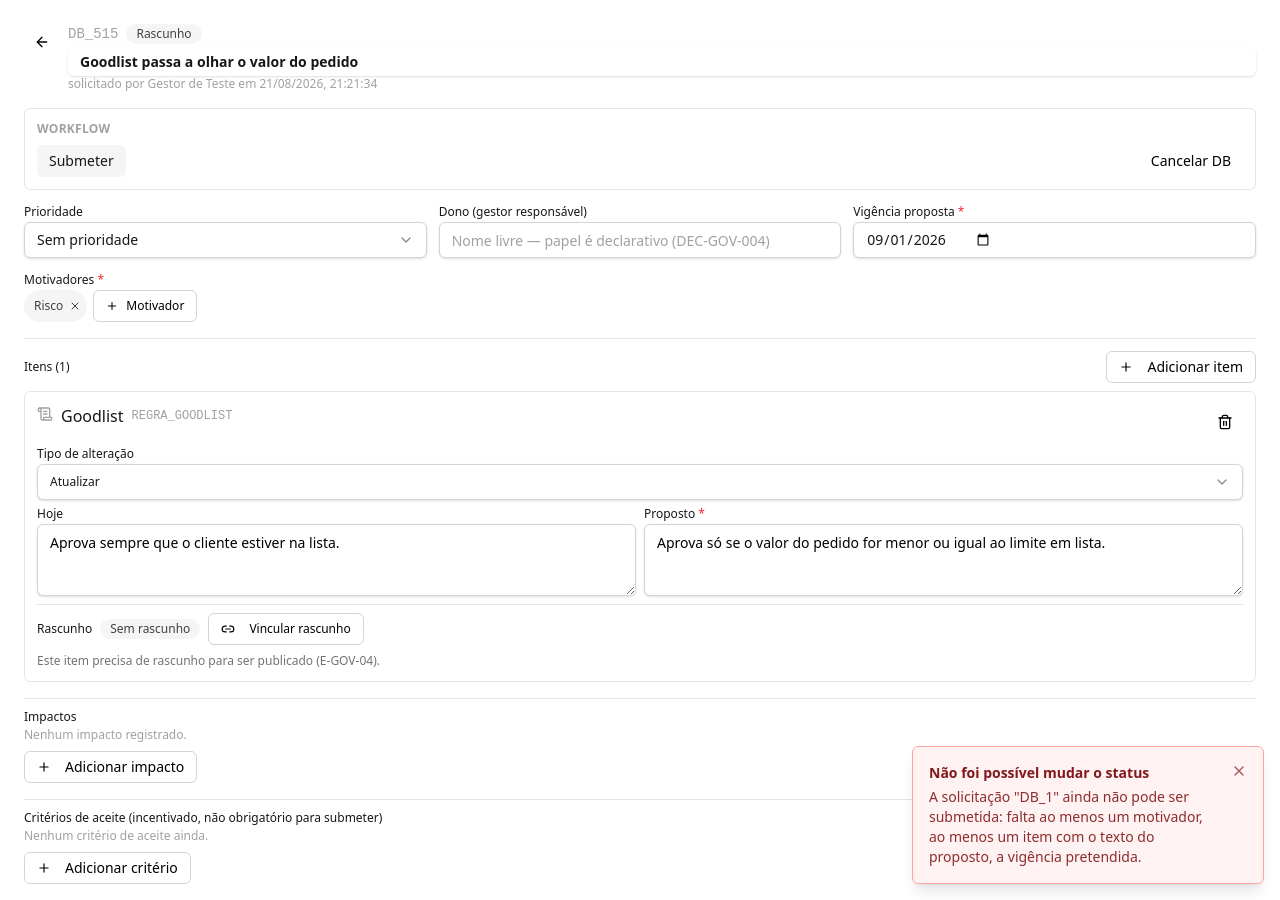
ChangeRequestDetail — submissão (RN-GOV-03) › com motivador, item e vigência, submeter avança para SUBMITTED e o aviso some
Click the button "Submeter". click: (81, 161)
box: [37,145,126,177]
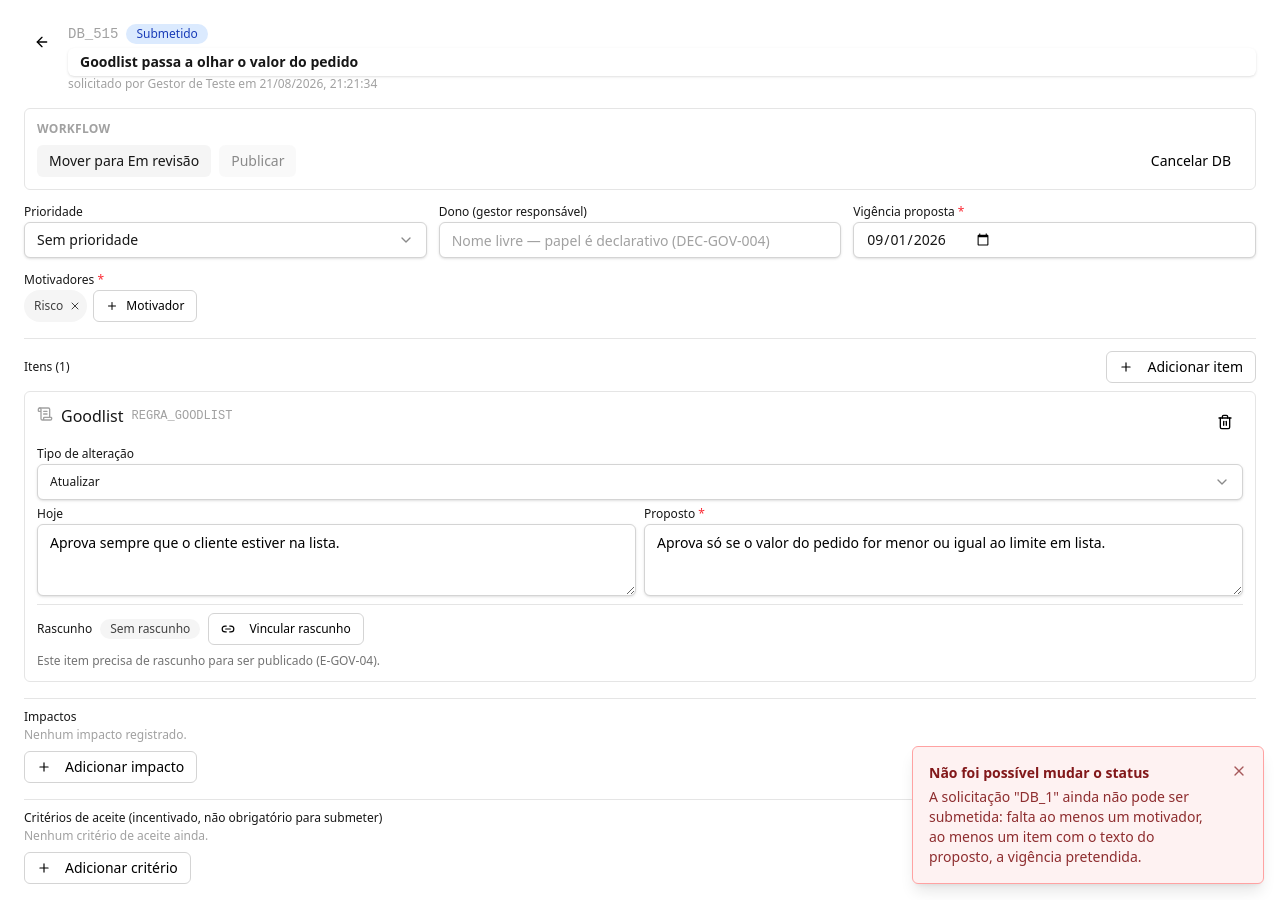
Now the text "Submetido" is shown, box [126,24,208,44]
